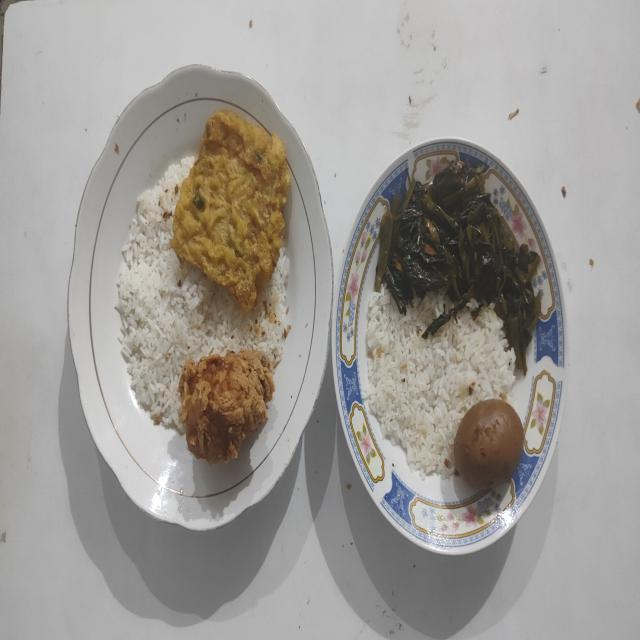nasi_putih: (116, 156, 290, 432), (365, 290, 516, 479)
tumis_kangkung: (375, 158, 541, 374)
